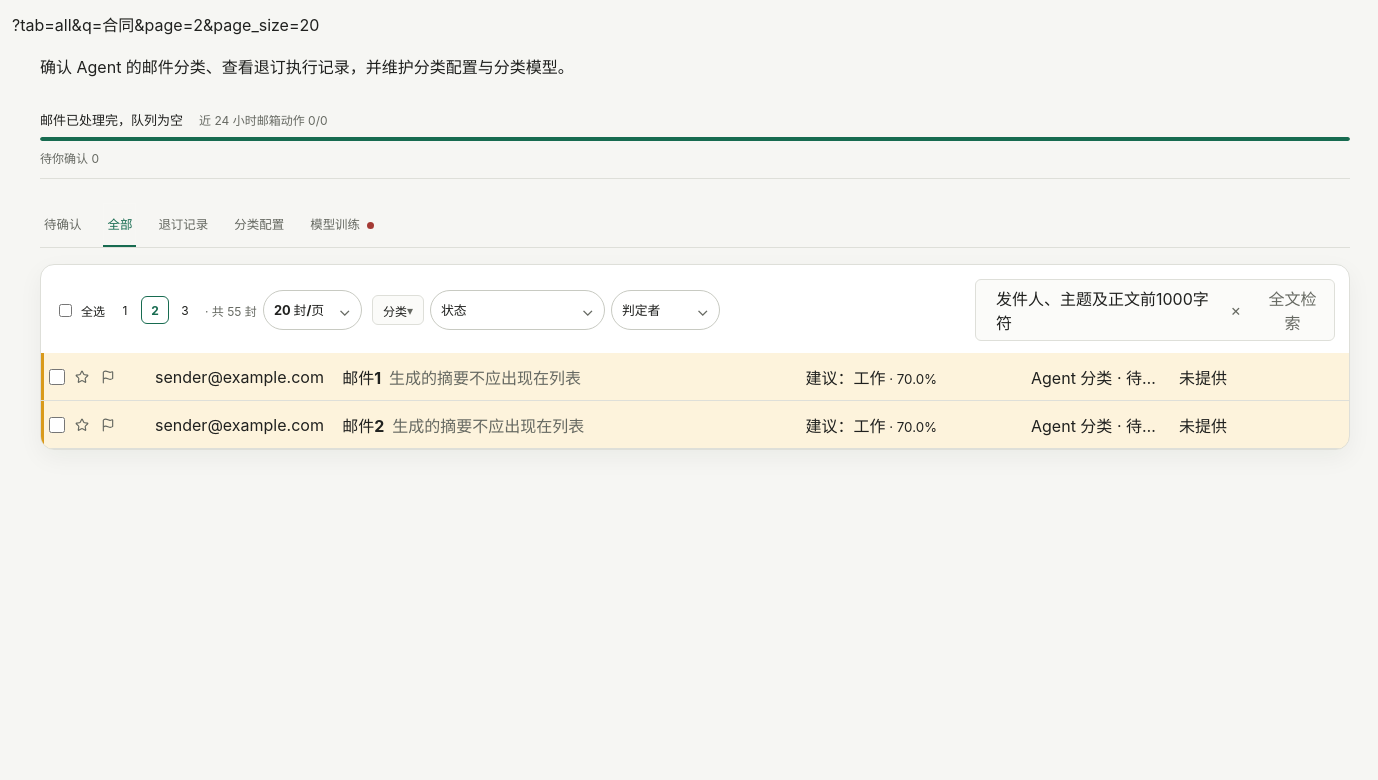
Test: defaults email list search to previews and uses full text only on explicit request
Expected: the button with aria-label "打开邮件 邮件1" is shown, [41, 353, 1349, 401]
Expected: the 1st text "生成的摘要不应出现在列表" is shown, [389, 368, 581, 388]
Click the checkbox named "选择邮件 邮件1": (57, 377) [49, 369, 65, 385]
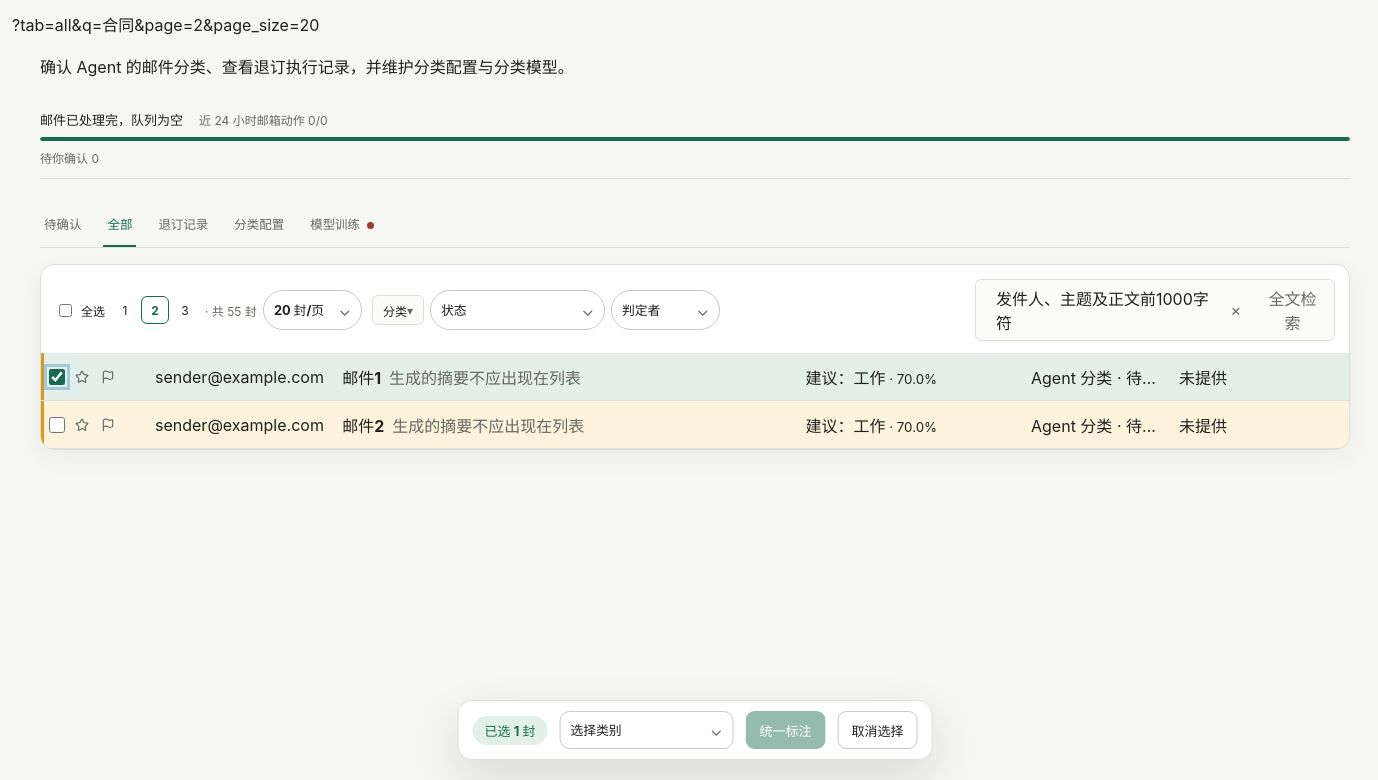
Now the text "已选 1 封" is shown, box [473, 716, 547, 744]
Click the button "全文检索": (1293, 310) [1251, 280, 1334, 340]
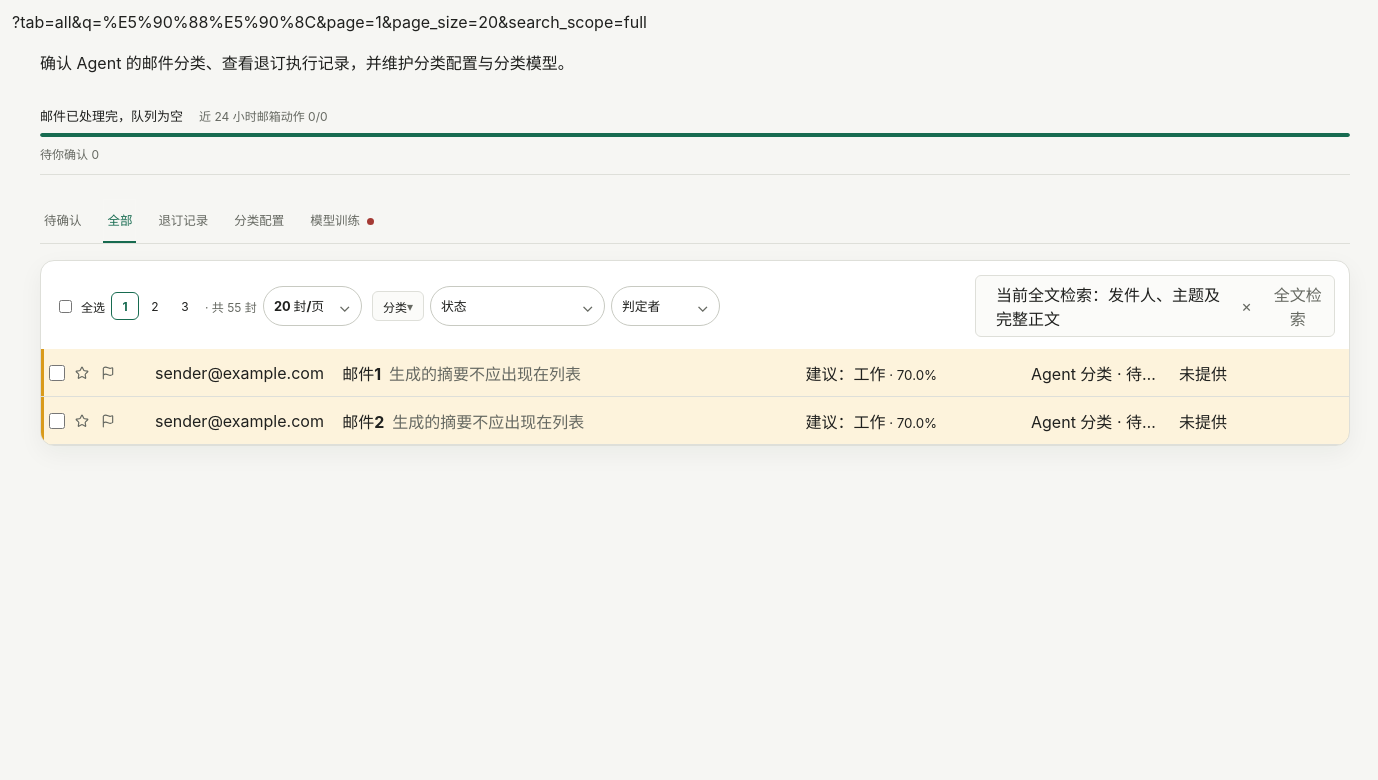
Now the text named "URL" shows "search_scope=full", box [12, 12, 647, 32]
Now the text "已选 1 封" is gone
